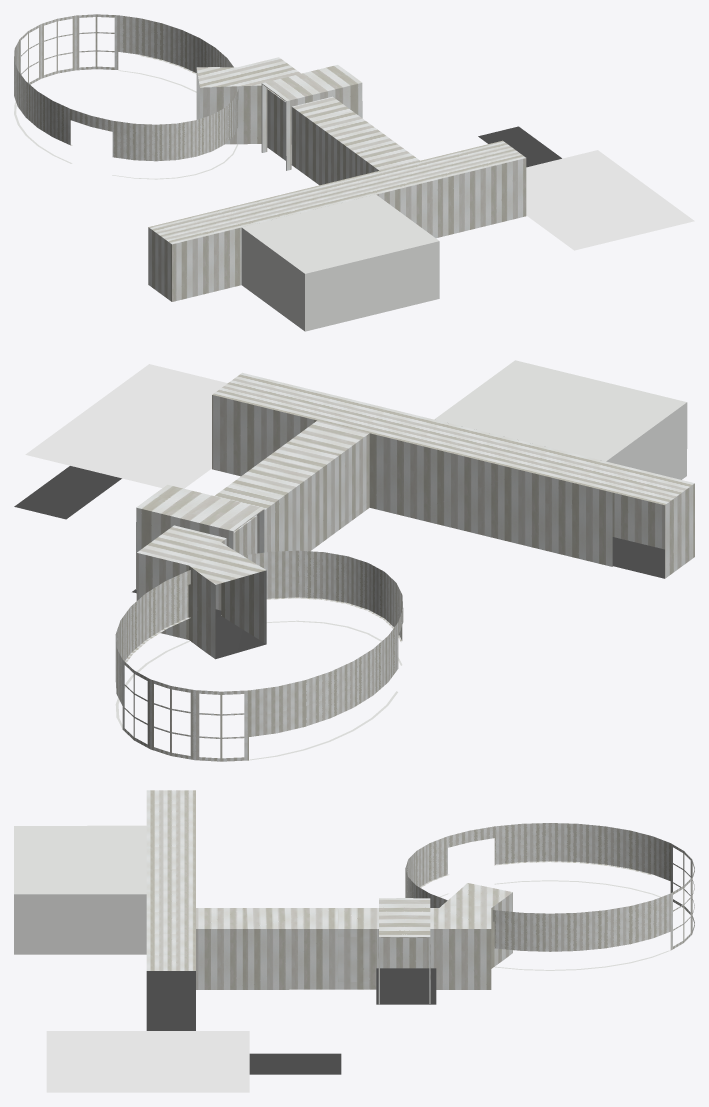
The model's file is FloorplanRemodel.fbx.
3 views of the same model, one above another, from view 1: azimuth 30°, elevation 25°; view 2: azimuth 150°, elevation 25°; view 3: azimuth 270°, elevation 25° (orthographic). The views are drawn at different scales.
Parts seen in each view (by area): view 1: Wall__7__001, OIbamaRoom, walls, ConferenceRoom, LibraryHallway__1_, Cube__5__001; view 2: Wall__7__001, walls, OIbamaRoom, ConferenceRoom, LibraryHallway__1_, Cube__5__001, Cube__5_; view 3: Wall__7__001, walls, OIbamaRoom, ConferenceRoom, Cube__5_, LibraryHallway__1_, Cube__5__001.
Part boxes in pixels (<box>): Wall__7__001: <box>148,57,526,301</box>; OIbamaRoom: <box>241,194,439,331</box>; walls: <box>14,14,238,179</box>; ConferenceRoom: <box>526,150,694,250</box>; LibraryHallway__1_: <box>261,65,362,170</box>; Cube__5__001: <box>478,126,561,167</box>; Wall__7__001: <box>136,372,694,658</box>; walls: <box>115,550,403,761</box>; OIbamaRoom: <box>434,360,687,479</box>; ConferenceRoom: <box>25,364,227,488</box>; LibraryHallway__1_: <box>136,484,264,610</box>; Cube__5__001: <box>14,466,121,519</box>; Cube__5_: <box>132,537,664,658</box>; Wall__7__001: <box>146,790,512,989</box>; walls: <box>405,823,694,970</box>; OIbamaRoom: <box>14,825,146,954</box>; ConferenceRoom: <box>46,1031,249,1092</box>; Cube__5_: <box>146,968,436,1030</box>; LibraryHallway__1_: <box>378,898,430,1004</box>; Cube__5__001: <box>249,1053,341,1074</box>.
Size of the model in its own units: 3207 by 450 by 3812.
